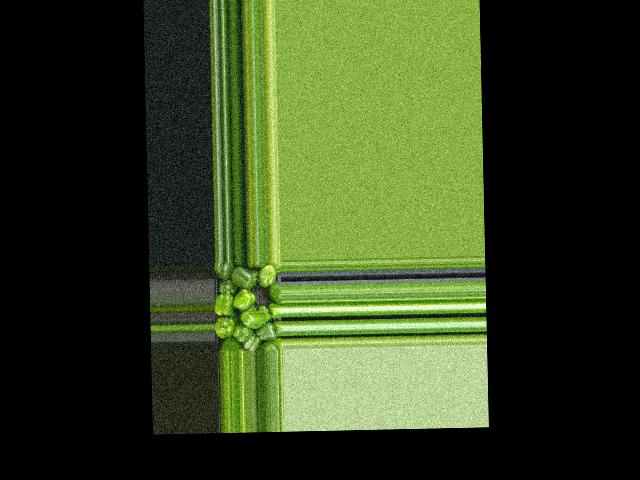bell_pepper: (224, 337, 243, 352)
